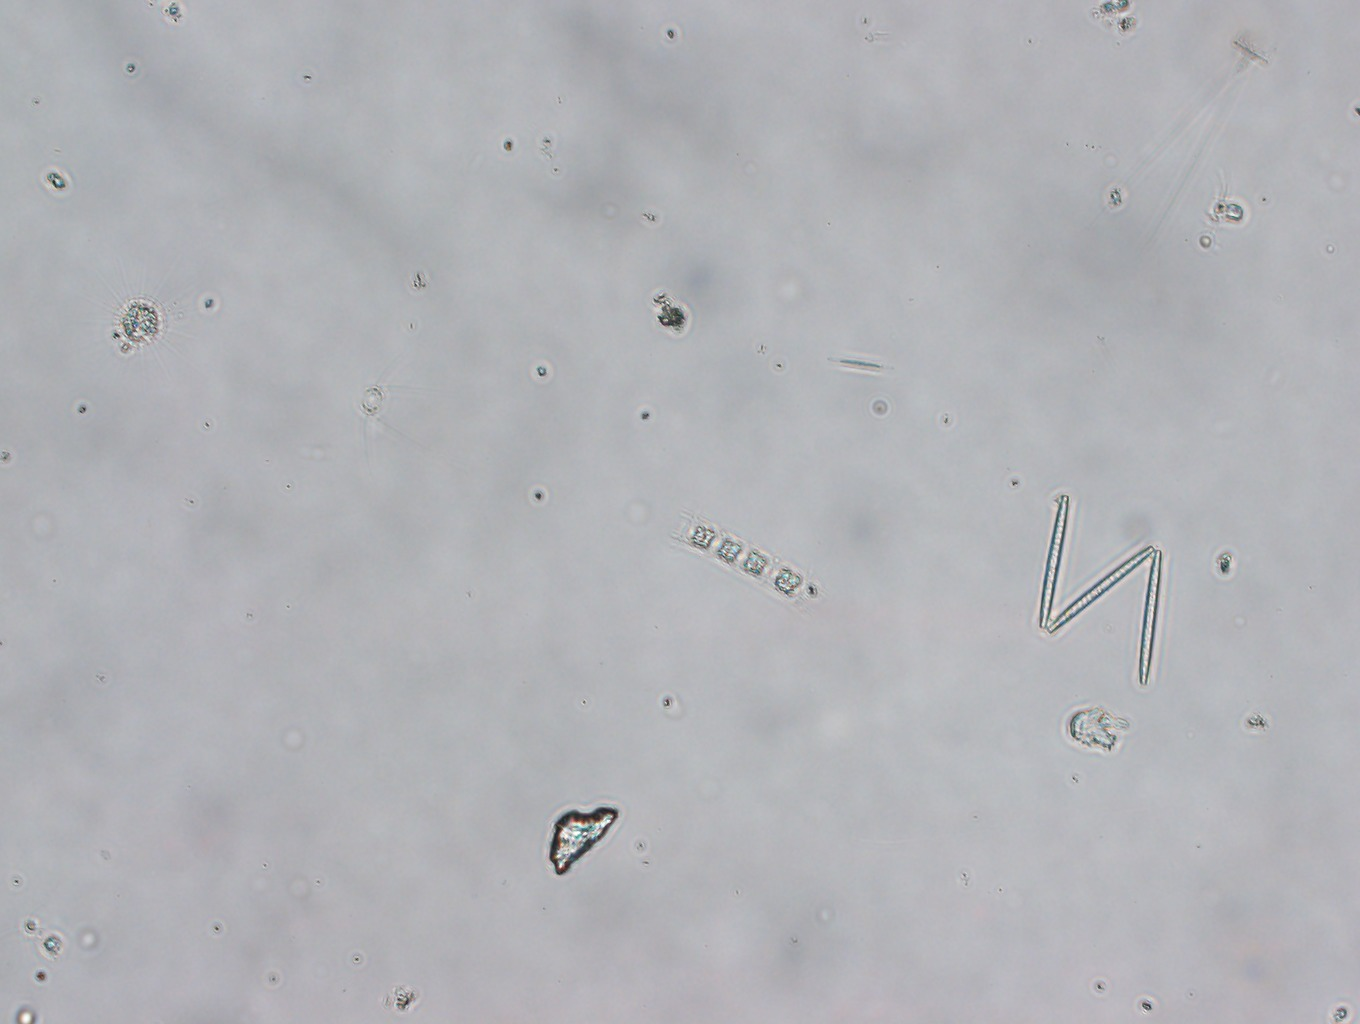skeletonema: (661, 509, 822, 614)
thalassionema nitzschioides: (1031, 486, 1174, 687)
